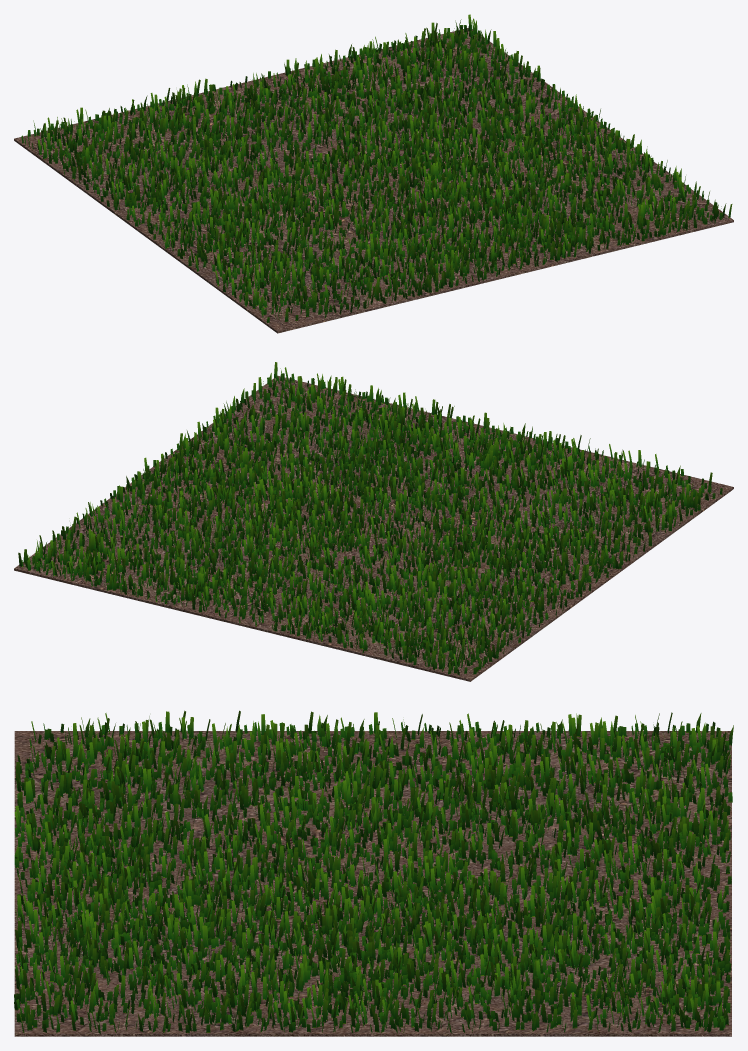
The model's file is lawn-model.glb.
3 renders of one model, top to bottom at view 1: azimuth 30°, elevation 25°; view 2: azimuth 150°, elevation 25°; view 3: azimuth 270°, elevation 25°, orthographic. The views are drawn at different scales.
Visible parts, largest first — view 1: Plane.002_grass_0, Plane.10002_Soil_0; view 2: Plane.002_grass_0, Plane.10002_Soil_0; view 3: Plane.002_grass_0, Plane.10002_Soil_0.
Boxes of the visible parts, x1=… form: Plane.002_grass_0: x1=21, y1=14, x2=732, y2=322; Plane.10002_Soil_0: x1=14, y1=28, x2=733, y2=333; Plane.002_grass_0: x1=18, y1=362, x2=722, y2=675; Plane.10002_Soil_0: x1=14, y1=375, x2=733, y2=681; Plane.002_grass_0: x1=14, y1=710, x2=733, y2=1033; Plane.10002_Soil_0: x1=14, y1=731, x2=731, y2=1036.
Bounding box in the file's own units: 201 × 7.19 × 201.
Materials: 2 (2 with a texture image).
